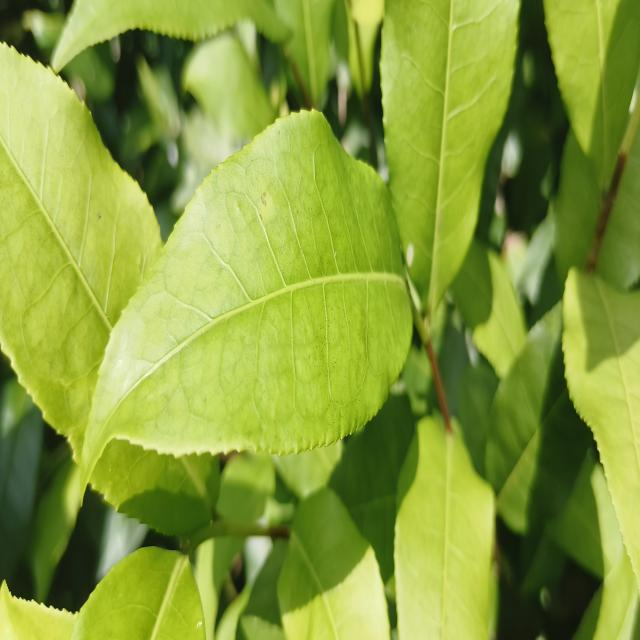Leaf: (81, 111, 411, 482), (0, 43, 162, 465), (381, 0, 520, 314), (562, 268, 640, 588), (485, 302, 592, 534), (394, 417, 495, 640), (543, 0, 640, 186), (277, 489, 390, 640), (51, 0, 289, 71), (71, 547, 205, 640), (92, 440, 219, 536), (451, 240, 527, 378), (182, 31, 275, 140), (548, 456, 623, 577), (0, 378, 43, 582), (273, 0, 335, 106), (572, 552, 638, 640)
